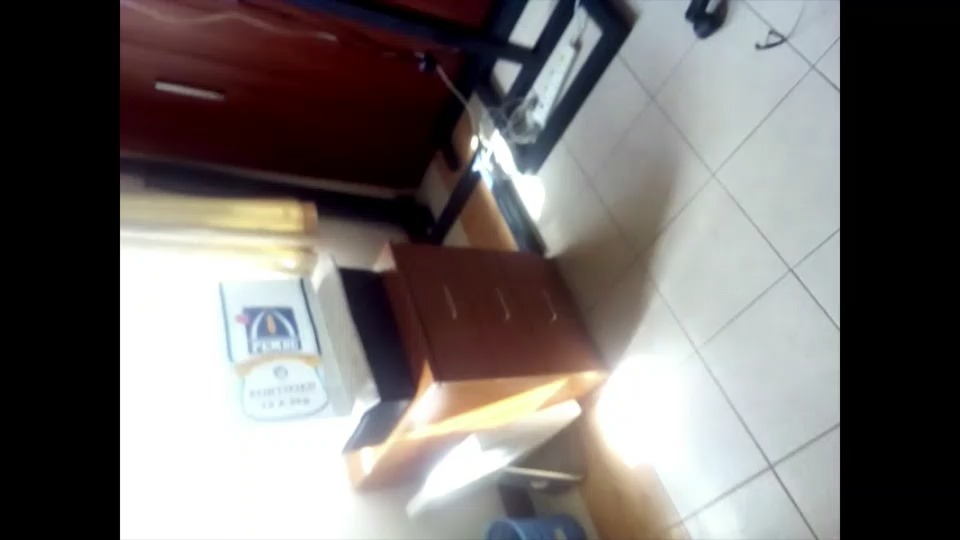wheat_flour_blue_label: (219, 281, 344, 417)
